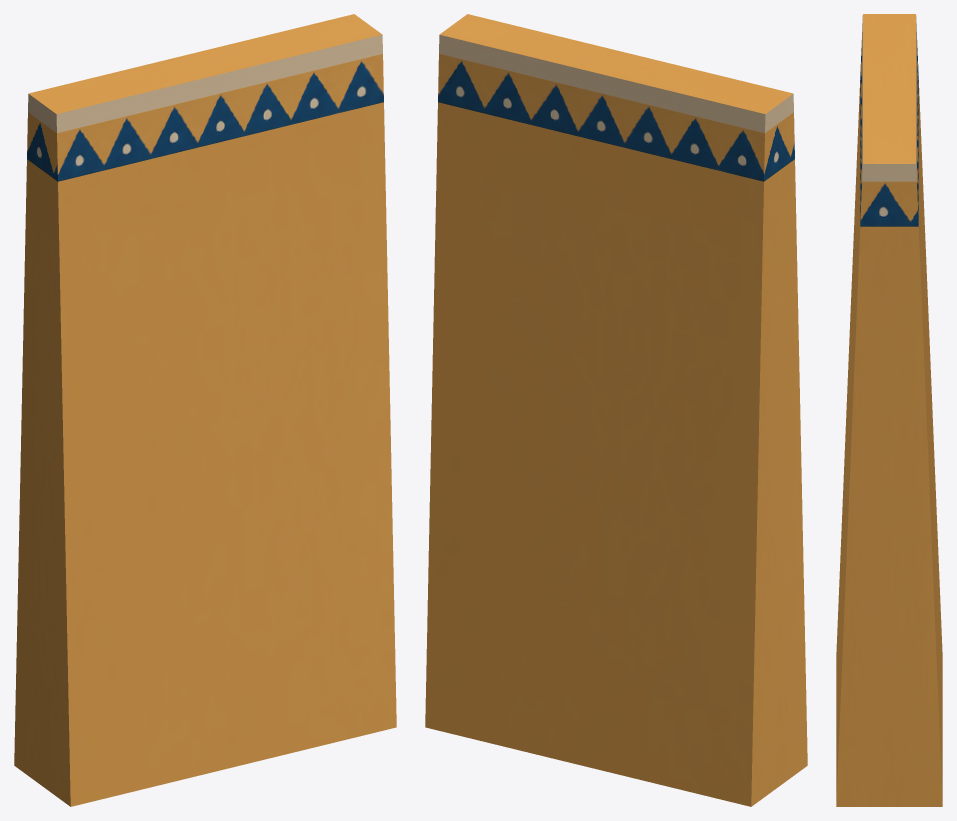
Rendered from rc_wa_wall_tapered_4x8.glb.
3 renders of one model, left to right at view 1: azimuth 30°, elevation 25°; view 2: azimuth 150°, elevation 25°; view 3: azimuth 270°, elevation 25°, orthographic. The views are drawn at different scales.
Parts seen in each view (by area): view 1: SM_RC_WA_Wall_Tapered_4x8; view 2: SM_RC_WA_Wall_Tapered_4x8; view 3: SM_RC_WA_Wall_Tapered_4x8.
Boxes of the visible parts, x1,y1,x2,y2 form: SM_RC_WA_Wall_Tapered_4x8: (14,14,396,806); SM_RC_WA_Wall_Tapered_4x8: (425,14,807,806); SM_RC_WA_Wall_Tapered_4x8: (836,14,942,806).
Size of the model in its own units: 4 by 8 by 1.2.
Materials: 1 (1 with a texture image).
